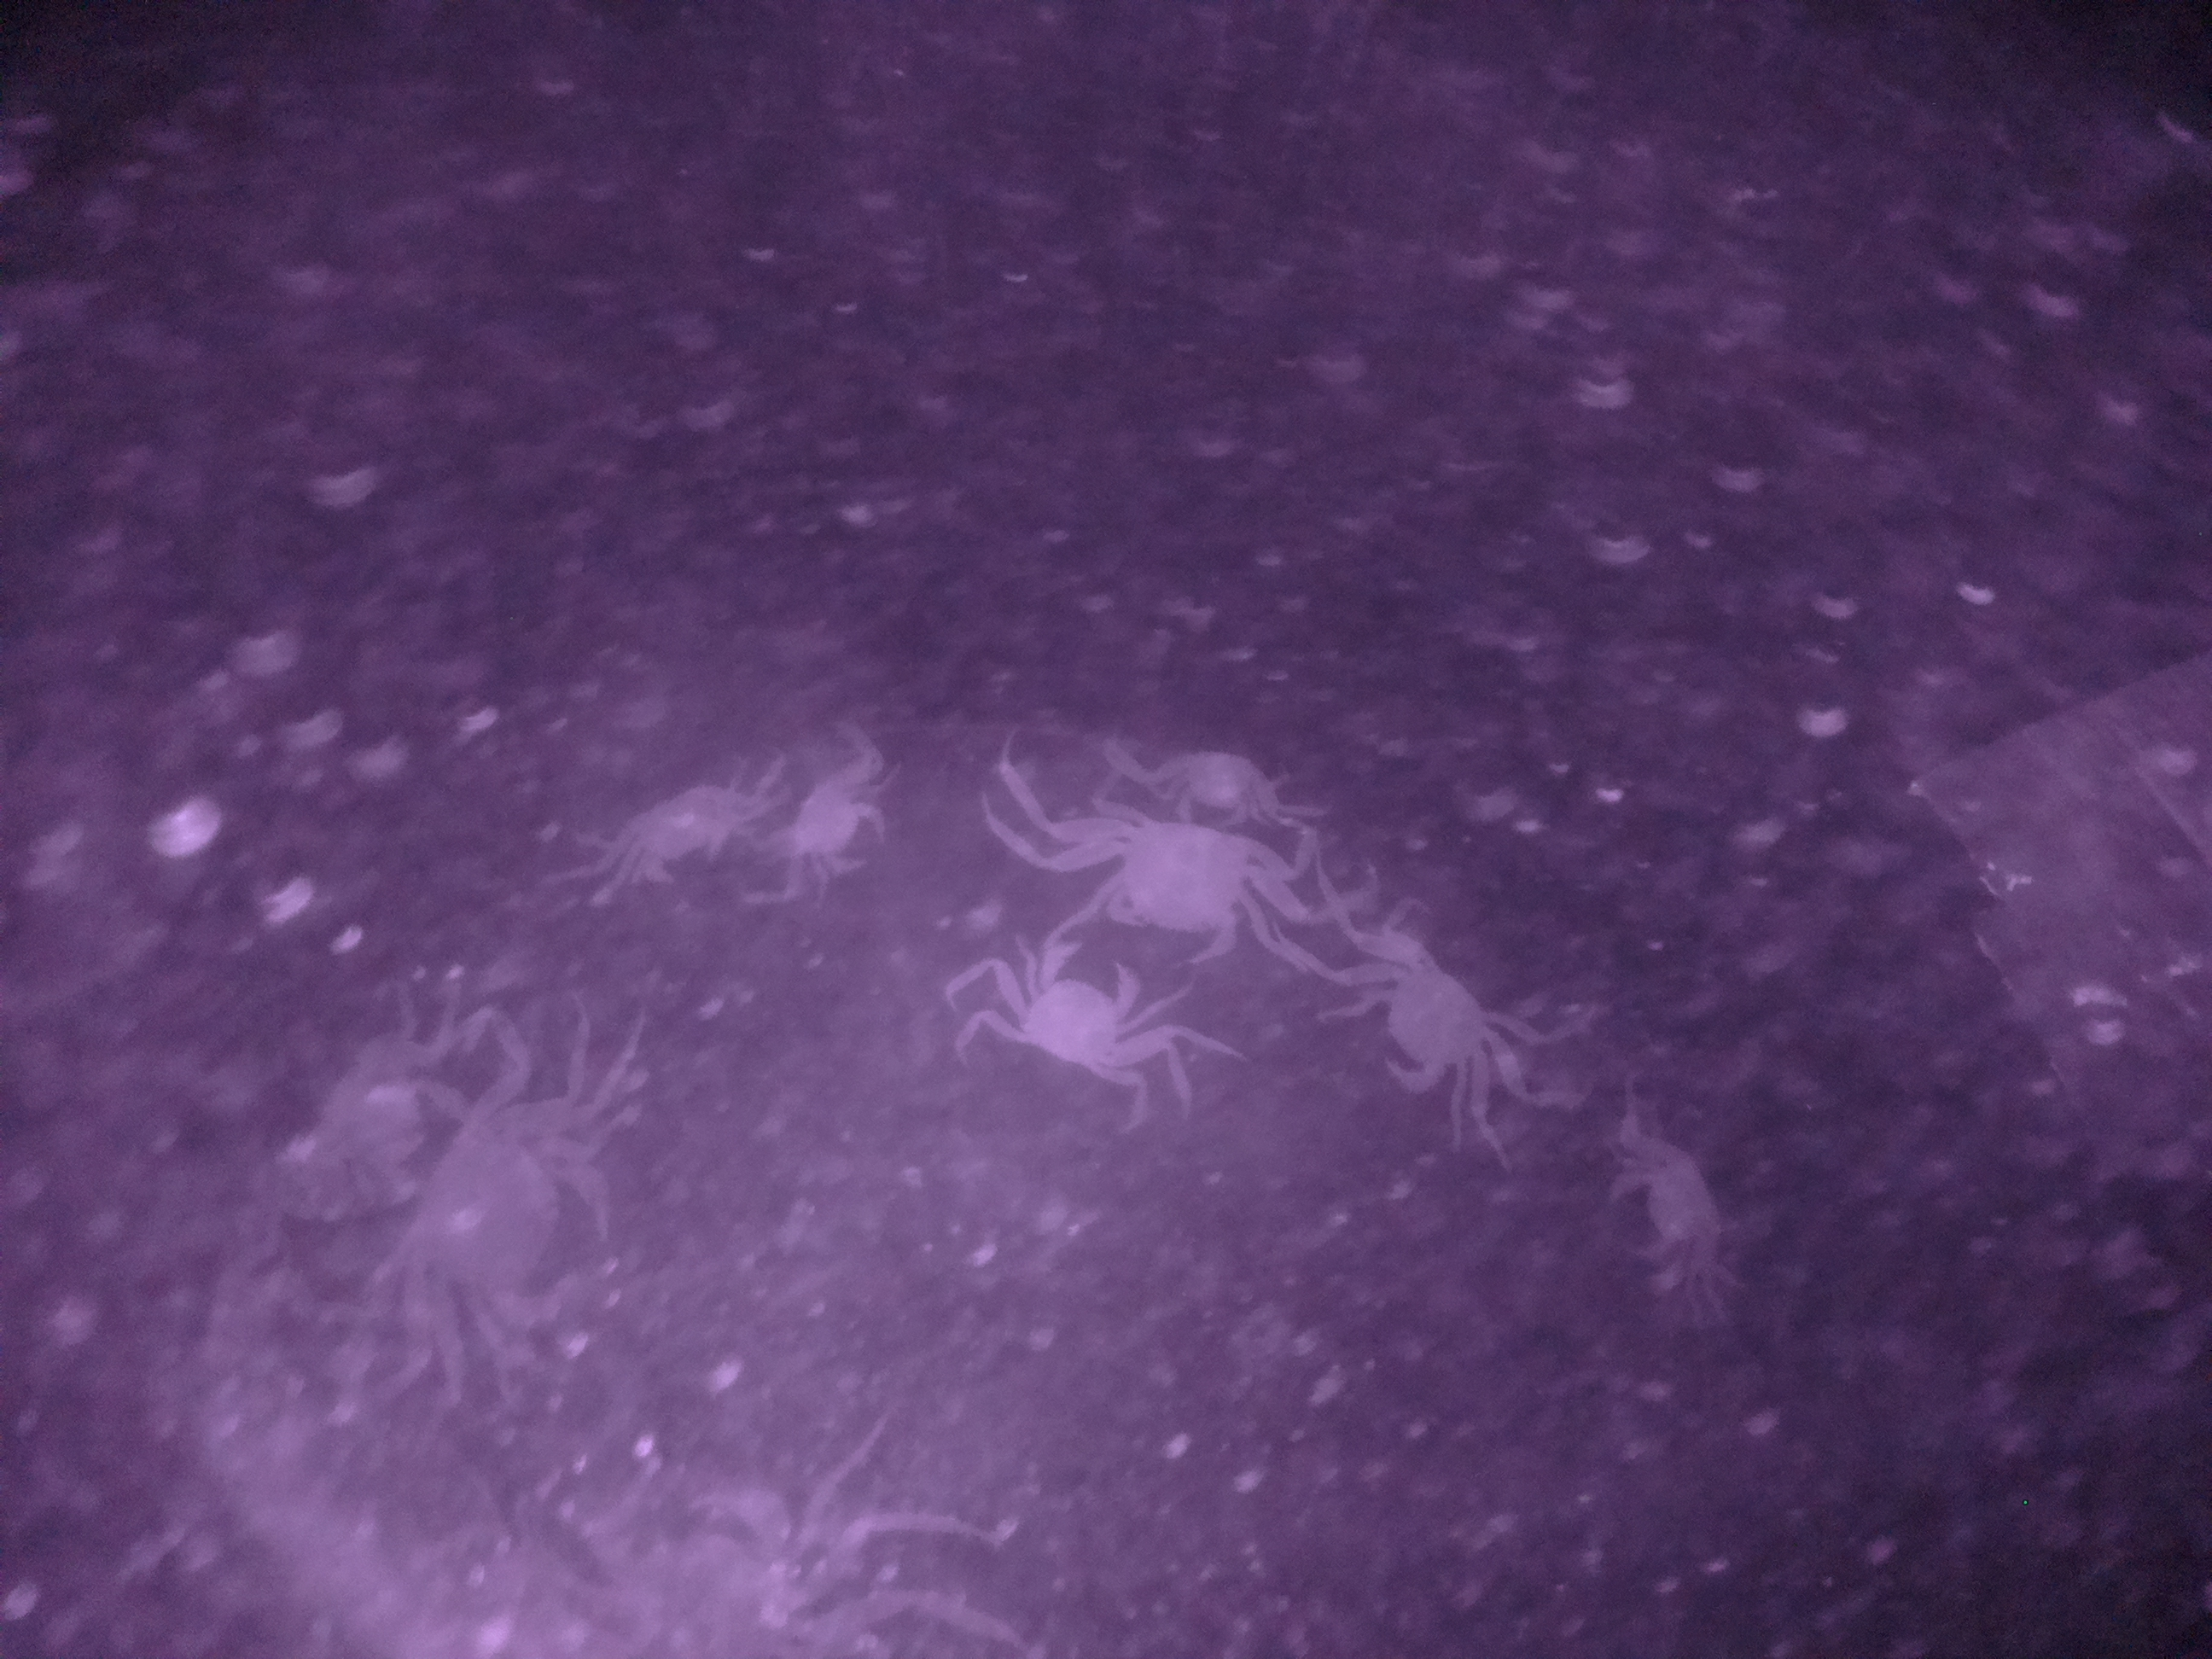Crab: (1318, 924, 1524, 1098), (1094, 781, 1268, 965), (986, 941, 1148, 1072), (596, 774, 758, 882), (775, 760, 899, 892)
